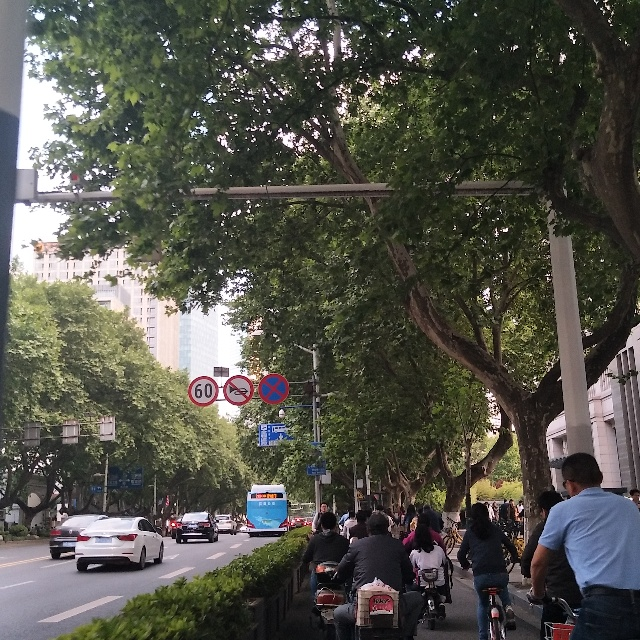nohonk: (223, 374, 255, 408)
stop: (259, 372, 292, 406)
